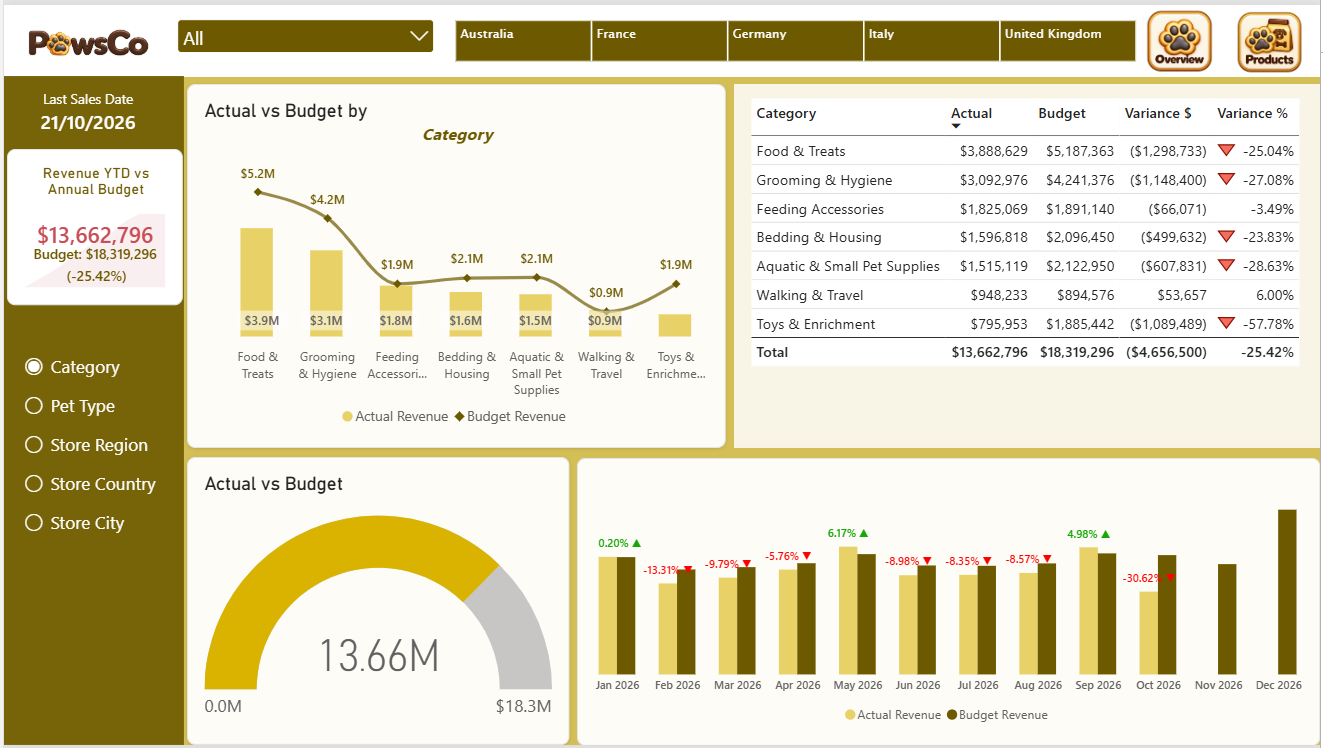

The page's visual inventory and layout, read from the dashboard file:
{"tool":"powerbi","page":{"name":"Budget","canvas":[1280,720],"ordinal":2},"visuals":[{"type":"shape","box":[0,0,1280,70],"z":0},{"type":"image","box":[0,0,164,70],"z":1000},{"type":"tableEx","fields":{"Values":["Product.CategoryL1","Metrics.Revenue Current Year","Metrics.Budget Revenue","Metrics.△ Budget","Metrics.△ Budget %"]},"box":[709.7,76.9,570.3,353.9],"z":2000},{"type":"slicer","fields":{"Values":["Calendar.Calendar Hierarchy.Quarter","Calendar.Calendar Hierarchy.Month"]},"box":[163,8.9,260,50],"z":3000},{"type":"shape","box":[0,69,175.4,650.6],"z":4000},{"type":"treemap","title":"TreeMap","fields":{"Group":["store.Store Location Hierarchy.StoreCountry"],"Values":["Metrics.Dummy Measure"]},"box":[422.7,1,694,70],"z":5000},{"type":"slicer","fields":{"Values":["Parameter Budget.Parameter"]},"box":[13,331.6,151,198],"z":6000},{"type":"gauge","title":"Actual vs Budget ","fields":{"MaxValue":["Metrics.Budget Revenue"],"Y":["Metrics.Revenue Current Year"]},"box":[178,440,372,280],"z":7000},{"type":"clusteredColumnChart","fields":{"Category":["Calendar.MonthYear"],"Y":["Metrics.Revenue Current Year","Metrics.Budget Revenue"]},"box":[557,440.5,723,279.5],"z":8000},{"type":"cardVisual","fields":{"Data":["Metrics.Last Sales Date"]},"box":[6.9,69.1,150,71],"z":9000},{"type":"kpi","title":"Revenue YTD vs Annual Budget","fields":{"Goal":["Metrics.Budget YTD"],"Indicator":["Metrics.Revenue Current YTD"],"TrendLine":["Calendar.MonthYear"]},"box":[2.5,140.4,171.2,151.5],"z":10000},{"type":"lineClusteredColumnComboChart","title":"Actual vs Budget by","fields":{"Category":["Product.CategoryL1"],"Y":["Metrics.Revenue Current Year"],"Y2":["Metrics.Budget Revenue"]},"box":[178.4,76.9,523.8,353.9],"z":11000},{"type":"image","box":[1193.1,1,75,70.1],"z":12000},{"type":"image","box":[1106.2,0,75,70.1],"z":13000}]}

Visuals, with their boxes in screenshot pixels (x1, y1, x2, y2), scaled from the page's 1280x720 canvas onto the 1323x748 screenshot:
shape: bbox=(0, 0, 1322, 73)
image: bbox=(0, 0, 170, 73)
tableEx - Product.CategoryL1 x Metrics.Revenue Current Year: bbox=(734, 80, 1322, 448)
slicer - Calendar.Calendar Hierarchy.Quarter x Calendar.Calendar Hierarchy.Month: bbox=(168, 9, 437, 61)
shape: bbox=(0, 72, 181, 747)
"TreeMap" treemap: bbox=(437, 1, 1154, 74)
slicer - Parameter Budget.Parameter: bbox=(13, 344, 170, 550)
"Actual vs Budget " gauge: bbox=(184, 457, 568, 747)
clusteredColumnChart - Calendar.MonthYear x Metrics.Revenue Current Year: bbox=(576, 458, 1322, 747)
cardVisual - Metrics.Last Sales Date: bbox=(7, 72, 162, 146)
"Revenue YTD vs Annual Budget" kpi: bbox=(3, 146, 180, 303)
"Actual vs Budget by" lineClusteredColumnComboChart: bbox=(184, 80, 726, 448)
image: bbox=(1233, 1, 1311, 74)
image: bbox=(1143, 0, 1221, 73)
